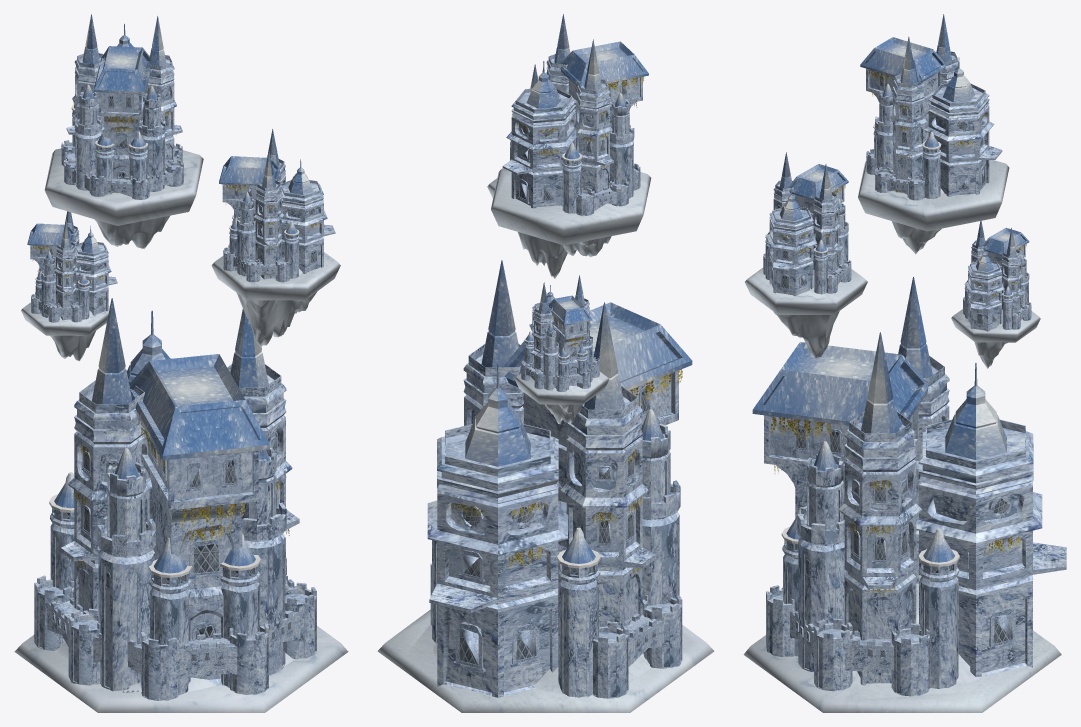
3 views of the same model, side by side, from view 1: azimuth 30°, elevation 25°; view 2: azimuth 150°, elevation 25°; view 3: azimuth 270°, elevation 25° (orthographic). The views are drawn at different scales.
Parts seen in each view (by area): view 1: winter_lord_l3; view 2: winter_lord_l3; view 3: winter_lord_l3.
Part boxes in pixels (<box>): winter_lord_l3: <box>14,14,348,712</box>; winter_lord_l3: <box>377,14,714,712</box>; winter_lord_l3: <box>743,14,1066,712</box>.
Size of the model in its own units: 1.73 by 4.28 by 2.03.
4 materials, 4 textured.
